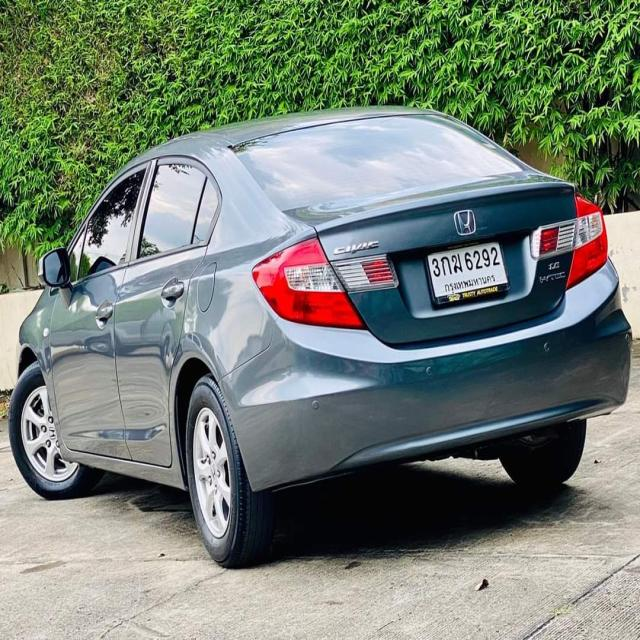license_plate: (420, 238, 515, 312)
